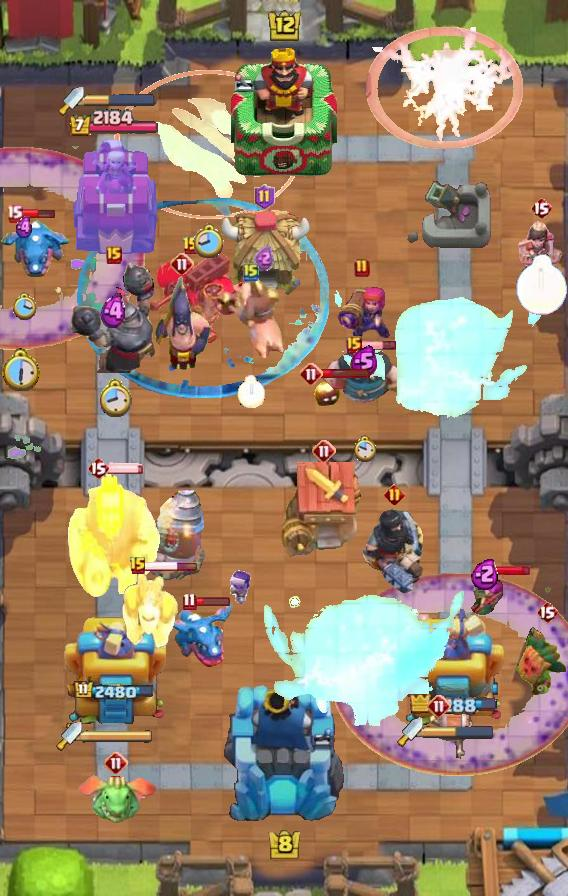bar: (401, 601, 505, 731), (62, 611, 166, 731), (70, 138, 158, 256)
barbarian-evolution: (364, 27, 524, 149)
bomber: (313, 379, 341, 407)
cannon: (466, 576, 504, 624)
electro-spirit: (100, 293, 128, 330), (472, 558, 501, 590), (350, 346, 378, 378), (254, 245, 274, 271), (14, 216, 35, 239)
electro-wizard: (75, 771, 157, 825)
elixir: (516, 254, 568, 316), (0, 348, 40, 392), (96, 377, 131, 417), (194, 223, 225, 260), (237, 376, 265, 408), (12, 292, 36, 321), (352, 435, 375, 463)
elixir-golem-small: (119, 570, 181, 650)
emote: (480, 564, 532, 577), (144, 560, 198, 571), (321, 369, 371, 380), (107, 462, 145, 474), (193, 596, 230, 608), (359, 341, 397, 352), (20, 208, 56, 219)
freeze: (214, 277, 288, 363)
giant-skeleton: (65, 472, 161, 600)
goblin: (229, 569, 253, 605)
goblin-barrel: (510, 625, 568, 701)
graveyard: (166, 600, 236, 668), (0, 218, 72, 280)
ice-wizard: (114, 69, 304, 218)
inferno-dragon: (360, 508, 428, 600)
inferno-tower: (147, 250, 257, 346)
king-tower: (221, 682, 347, 826), (231, 43, 337, 181)
king-tower-bar: (84, 93, 156, 107), (423, 725, 495, 739), (82, 729, 154, 743)
knight: (428, 705, 476, 759)
magic-archer: (146, 489, 206, 581)
mega-knight: (242, 578, 464, 752), (330, 276, 547, 422)
mega-minion: (334, 279, 390, 351)
monk: (153, 271, 211, 371)
pad_0: (75, 196, 329, 398)
prince: (217, 208, 311, 298)
rocket: (330, 572, 568, 776), (0, 146, 144, 350)
royal-guardian: (67, 259, 161, 373)
royal-hog: (321, 341, 407, 419)
selected: (68, 110, 160, 139), (411, 694, 498, 717), (73, 680, 155, 702)
skeleton-dragon: (516, 221, 566, 279)
sparky: (281, 461, 367, 559)
text: (170, 252, 194, 276), (299, 362, 323, 386), (312, 439, 336, 463), (427, 694, 451, 718), (104, 751, 128, 775), (254, 184, 275, 210), (530, 196, 552, 220), (87, 456, 109, 480), (536, 600, 558, 624), (383, 483, 405, 504), (182, 236, 200, 256), (129, 556, 147, 576), (5, 204, 23, 223), (354, 258, 370, 278), (243, 262, 259, 282), (106, 246, 122, 264), (346, 336, 362, 354), (183, 593, 197, 611)
